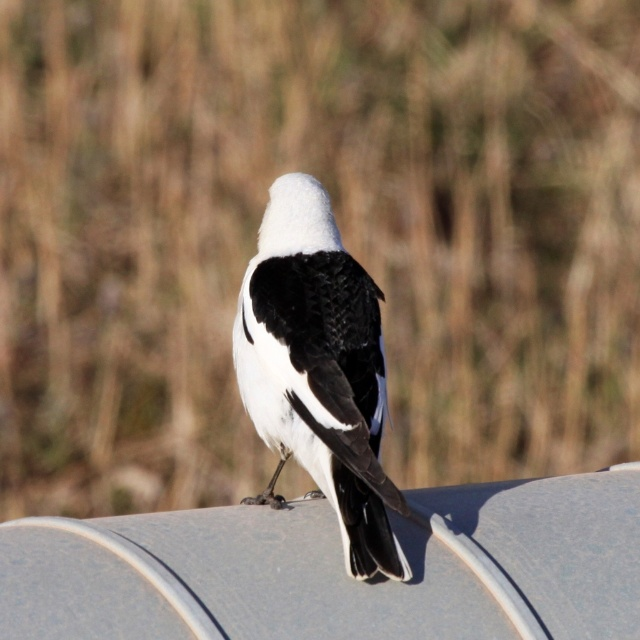Magpie: (232, 171, 421, 581)
